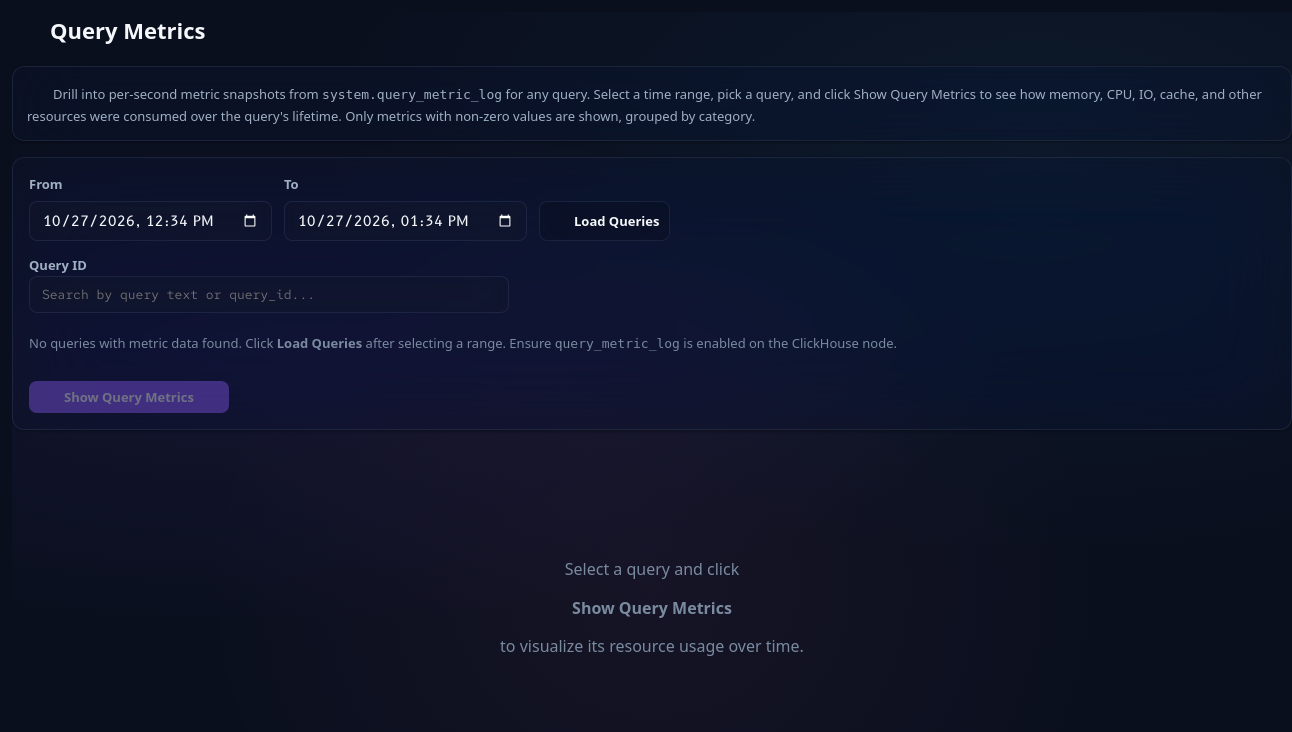
QueryMetrics Component › auto adjusts to-date by +24h when from-date changes
Replace the text in the 1st field with "2026-07-10T08:15". click: (150, 221)
box: [29,201,272,241]
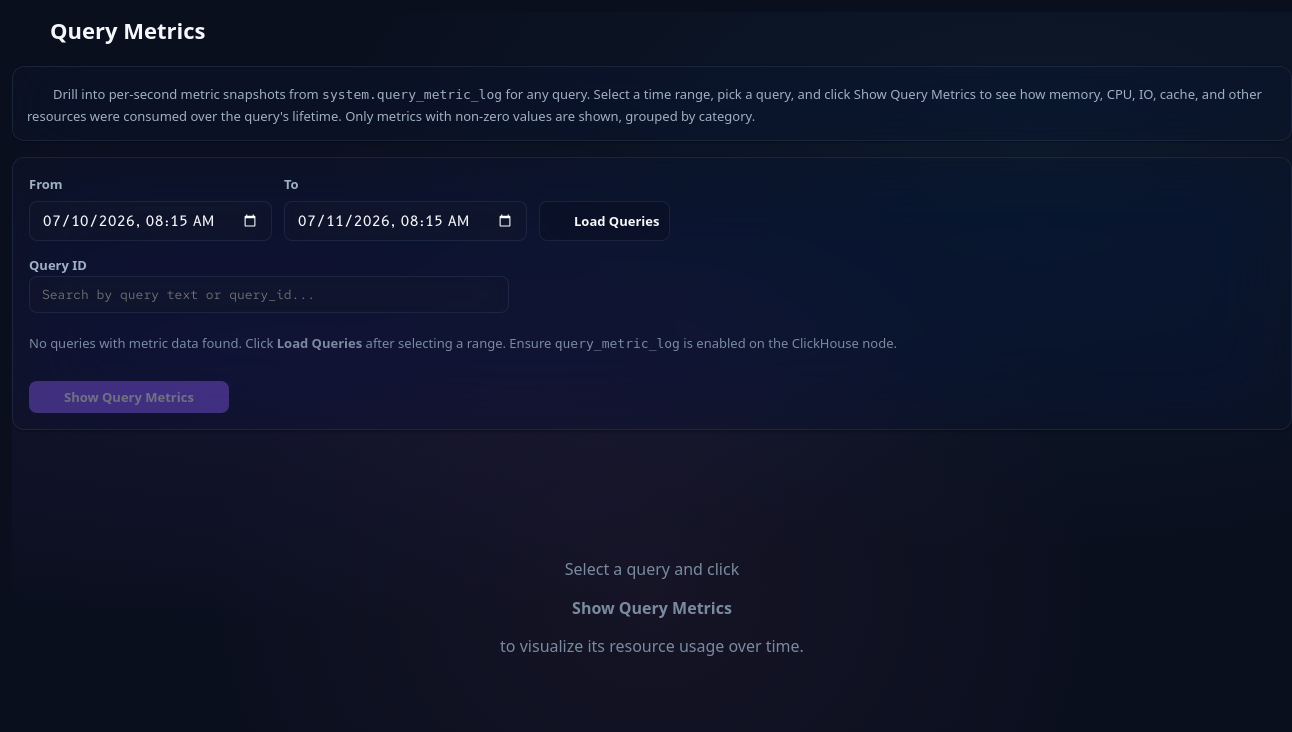
Expected: the 2nd field holds "2026-07-11T08:15", [284,201,527,241]
